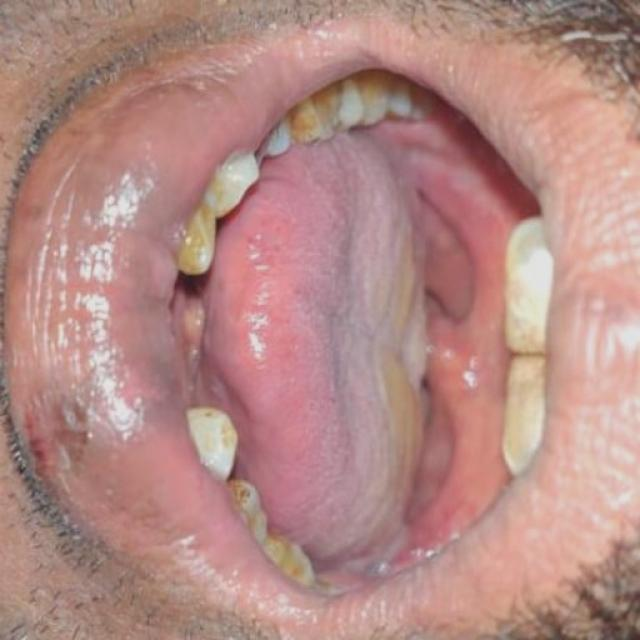processing_area: (200, 120, 525, 598)
